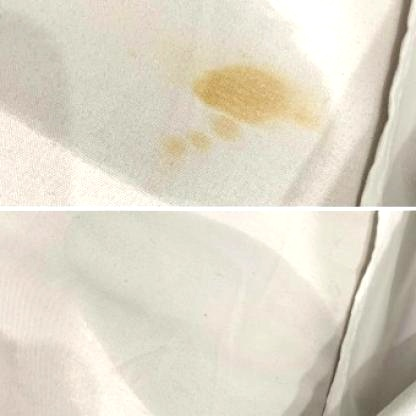coffee: (196, 71, 287, 113), (213, 120, 239, 138)
